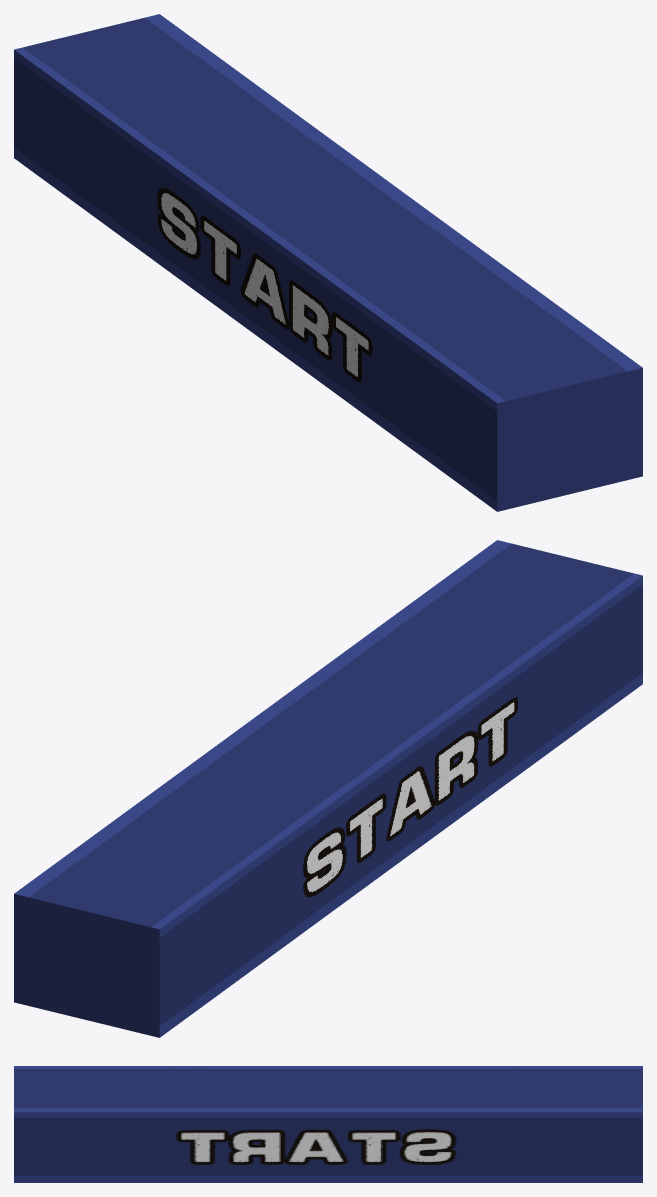
Rendered from start.FBX.
3 views of the same model, one above another, from view 1: azimuth 30°, elevation 25°; view 2: azimuth 150°, elevation 25°; view 3: azimuth 270°, elevation 25° (orthographic). The views are drawn at different scales.
Parts seen in each view (by area): view 1: Box005; view 2: Box005; view 3: Box005.
Part boxes in pixels (bbox=[...]): Box005: bbox=[14, 14, 642, 511]; Box005: bbox=[14, 540, 642, 1037]; Box005: bbox=[14, 1066, 642, 1182].
Size of the model in its own units: 317 by 226 by 1820.
